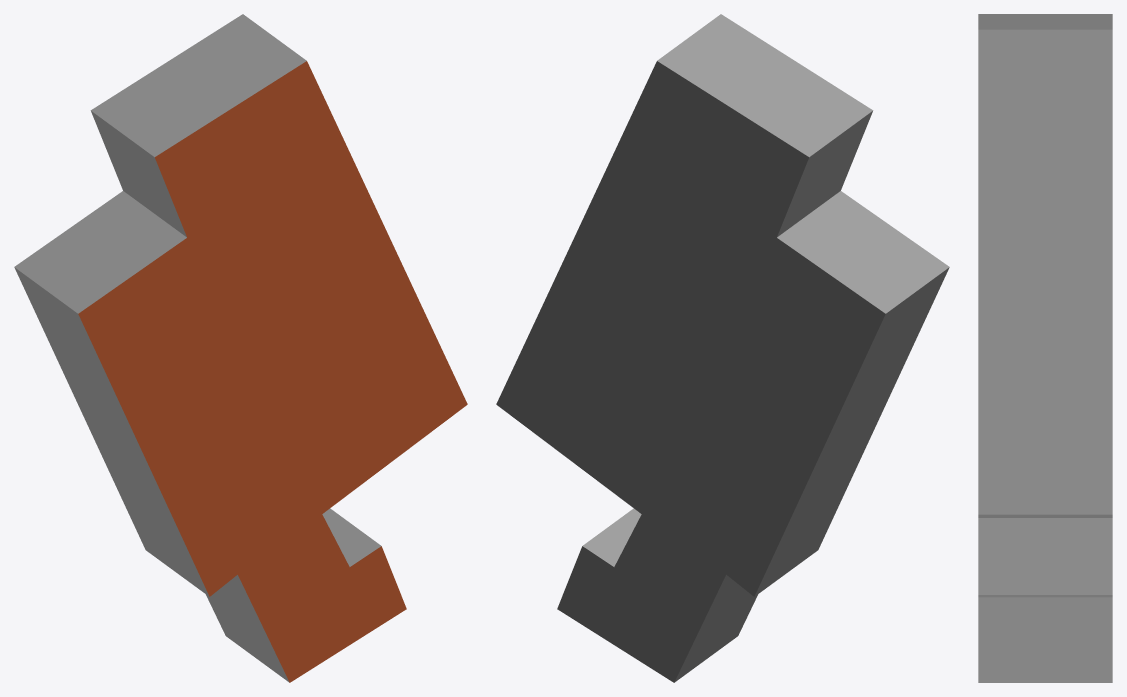
Rendered from construction_3336_assumed_A_Casa_h6m.obj.
3 renders of one model, left to right at view 1: azimuth 30°, elevation 25°; view 2: azimuth 150°, elevation 25°; view 3: azimuth 270°, elevation 25°, orthographic. The views are drawn at different scales.
Visible parts, largest first — view 1: construction_3336_assumed_A_Casa; view 2: construction_3336_assumed_A_Casa; view 3: construction_3336_assumed_A_Casa.
Part boxes in pixels (bbox=[...]): construction_3336_assumed_A_Casa: bbox=[14, 14, 467, 682]; construction_3336_assumed_A_Casa: bbox=[496, 14, 949, 682]; construction_3336_assumed_A_Casa: bbox=[978, 14, 1112, 682].
Bounding box in the file's own units: 21.07 × 31.93 × 6.
